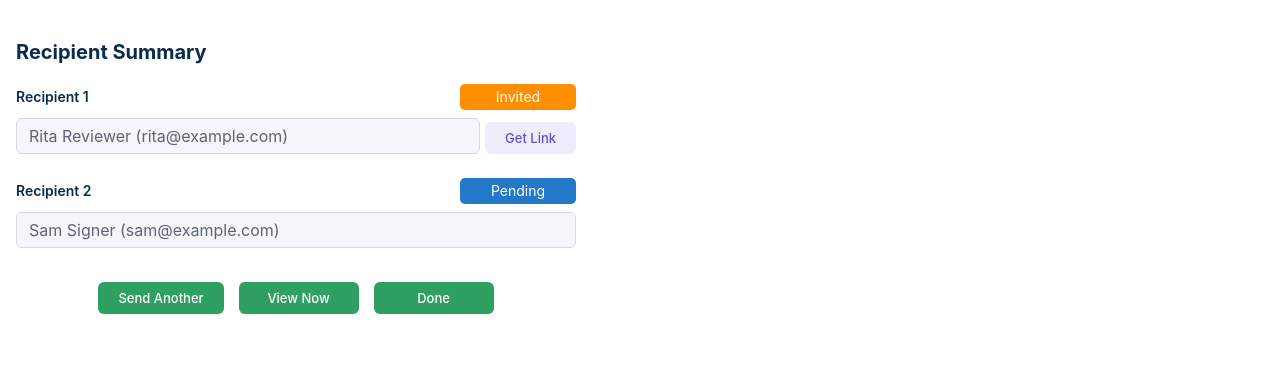
Test: EnvelopeRecipientSummary › fetches and displays an in-person link for the active recipient
The width and height of the screenshot is (1268, 371).
# Only Recipient 1 is at the active sequence, so there is exactly one Get Link button.
Click the button "Get Link" at x=530, y=138, box [485,122,576,154]
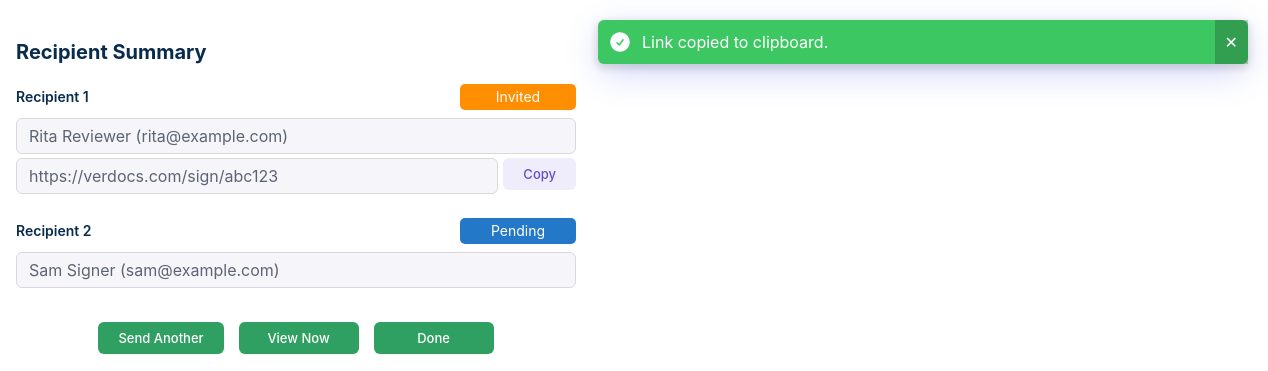
Expected: the text "https://verdocs.com/sign/abc123" is shown, [16,158,498,194]
Expected: the button "Copy" is shown, [503,158,576,190]
